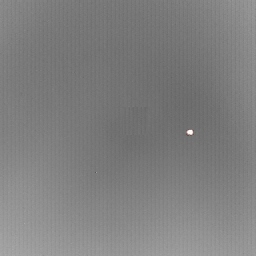Target: (185, 128, 194, 137)
